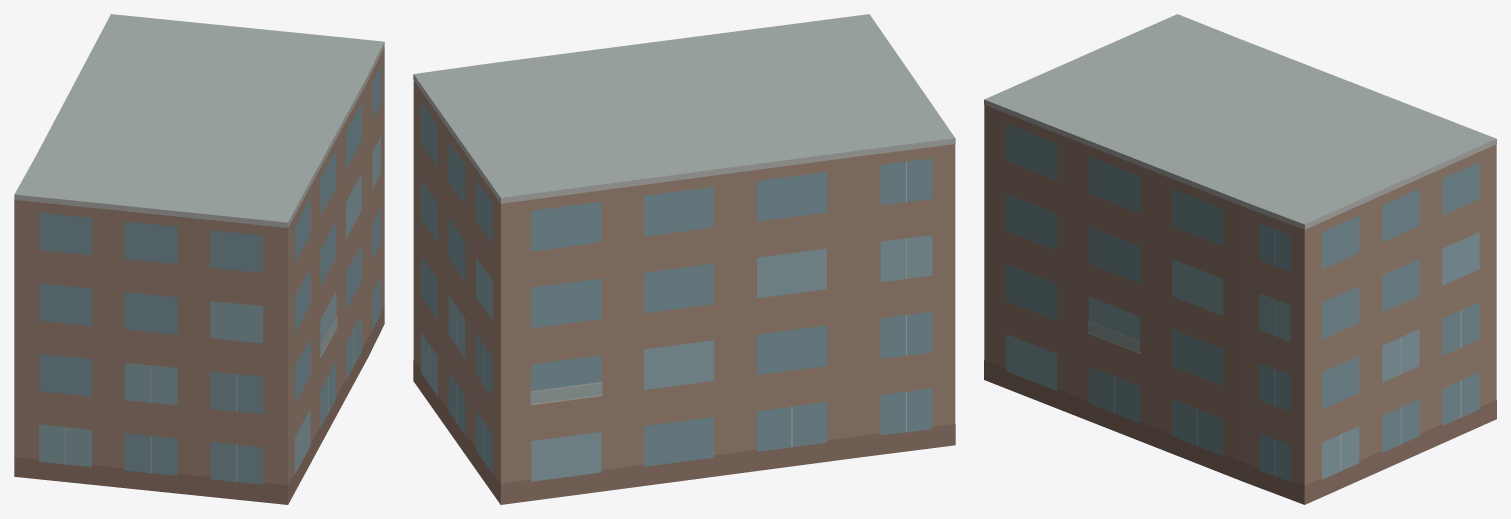
File: survey-upis-32712076.glb
The picture shows the model from 3 angles, left to right: view 1: azimuth 30°, elevation 25°; view 2: azimuth 150°, elevation 25°; view 3: azimuth 270°, elevation 25°; orthographic projection. The views are drawn at different scales.
Parts seen in each view (by area): view 1: survey-upis-32712076.tmp; view 2: survey-upis-32712076.tmp; view 3: survey-upis-32712076.tmp.
Boxes of the visible parts, x1,y1,x2,y2 form: survey-upis-32712076.tmp: (14, 14, 384, 504); survey-upis-32712076.tmp: (413, 14, 955, 504); survey-upis-32712076.tmp: (984, 14, 1496, 504).
Bounding box in the file's own units: 20.62 × 12.8 × 21.22.
